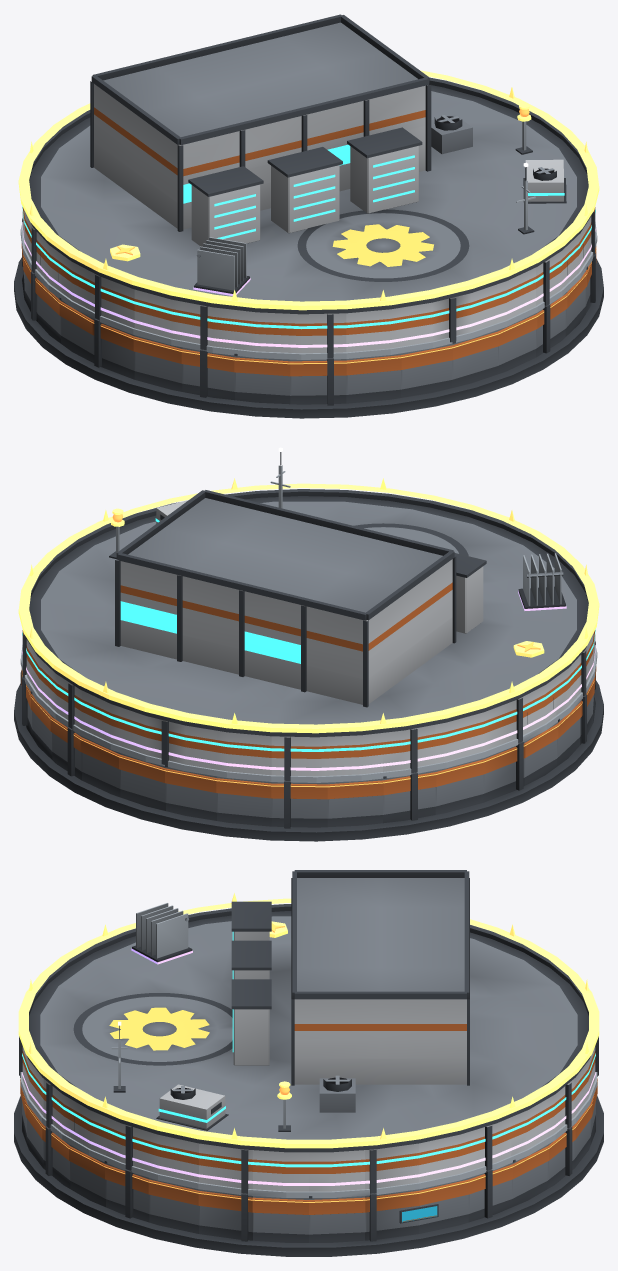
Rendered from battery_plant_m.glb.
The picture shows the model from 3 angles, top to bottom: view 1: azimuth 30°, elevation 25°; view 2: azimuth 150°, elevation 25°; view 3: azimuth 270°, elevation 25°; orthographic projection.
Parts seen in each view (by area): view 1: Roof, Base, L4, Wall_21, Wall_20, Wall_22, Wall_19, Wall_23, Wall_18, Wall_24, Upper_21, Upper_20 (+25 smaller); view 2: Roof, Base, Wall_10, Wall_11, Wall_09, Wall_12, Wall_08, Wall_13, Wall_07, Upper_10, L4, Upper_11 (+26 smaller); view 3: Roof, Base, L4, Wall_00, Wall_31, Wall_30, L3, Wall_29, Wall_01, Wall_02, Wall_28, Wall_03 (+26 smaller).
Part boxes in pixels (x1=…): Roof: x1=29, y1=14, x2=592, y2=314; Base: x1=14, y1=257, x2=603, y2=418; L4: x1=193, y1=237, x2=250, y2=295; Wall_21: x1=290, y1=358, x2=346, y2=405; Wall_20: x1=234, y1=353, x2=290, y2=404; Wall_22: x1=346, y1=353, x2=401, y2=403; Wall_19: x1=181, y1=347, x2=234, y2=400; Wall_23: x1=401, y1=343, x2=452, y2=397; Wall_18: x1=133, y1=335, x2=182, y2=391; Wall_24: x1=452, y1=330, x2=498, y2=387; Upper_21: x1=290, y1=313, x2=346, y2=357; Upper_20: x1=235, y1=310, x2=290, y2=352; Roof: x1=25, y1=489, x2=588, y2=737; Base: x1=14, y1=680, x2=603, y2=841; Wall_10: x1=271, y1=781, x2=327, y2=828; Wall_11: x1=327, y1=778, x2=383, y2=826; Wall_09: x1=216, y1=776, x2=271, y2=826; Wall_12: x1=383, y1=770, x2=436, y2=823; Wall_08: x1=165, y1=765, x2=216, y2=820; Wall_13: x1=435, y1=758, x2=484, y2=814; Wall_07: x1=119, y1=753, x2=165, y2=810; Upper_10: x1=271, y1=736, x2=327, y2=780; L4: x1=518, y1=553, x2=566, y2=610; Upper_11: x1=327, y1=733, x2=382, y2=775; Roof: x1=27, y1=870, x2=590, y2=1152; Base: x1=14, y1=1095, x2=603, y2=1256; L4: x1=131, y1=903, x2=192, y2=964; Wall_00: x1=309, y1=1196, x2=365, y2=1242; Wall_31: x1=252, y1=1196, x2=308, y2=1242; Wall_30: x1=198, y1=1189, x2=252, y2=1241; L3: x1=156, y1=1084, x2=228, y2=1130; Wall_29: x1=148, y1=1178, x2=198, y2=1233; Wall_01: x1=365, y1=1189, x2=419, y2=1241; Wall_02: x1=419, y1=1178, x2=469, y2=1233; Wall_28: x1=104, y1=1160, x2=149, y2=1222; Wall_03: x1=468, y1=1163, x2=513, y2=1222.
Bounding box in the file's own units: 14.75 × 5.36 × 14.75.
